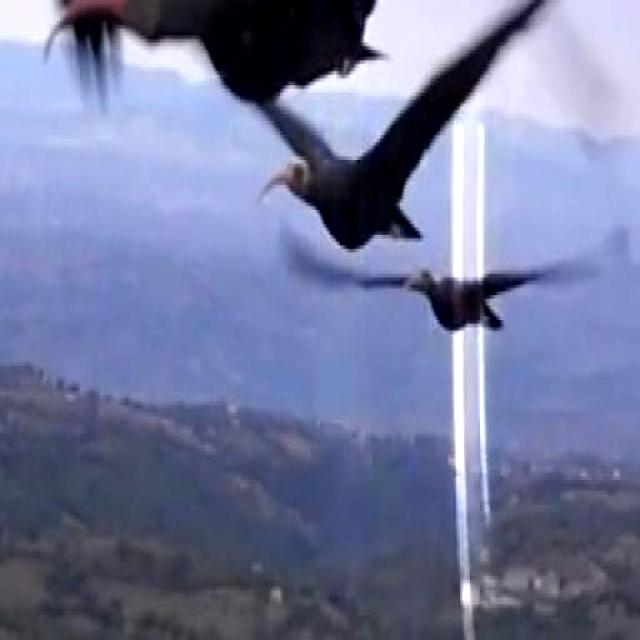airplane: (34, 0, 639, 165), (254, 0, 581, 248), (275, 221, 635, 344)
